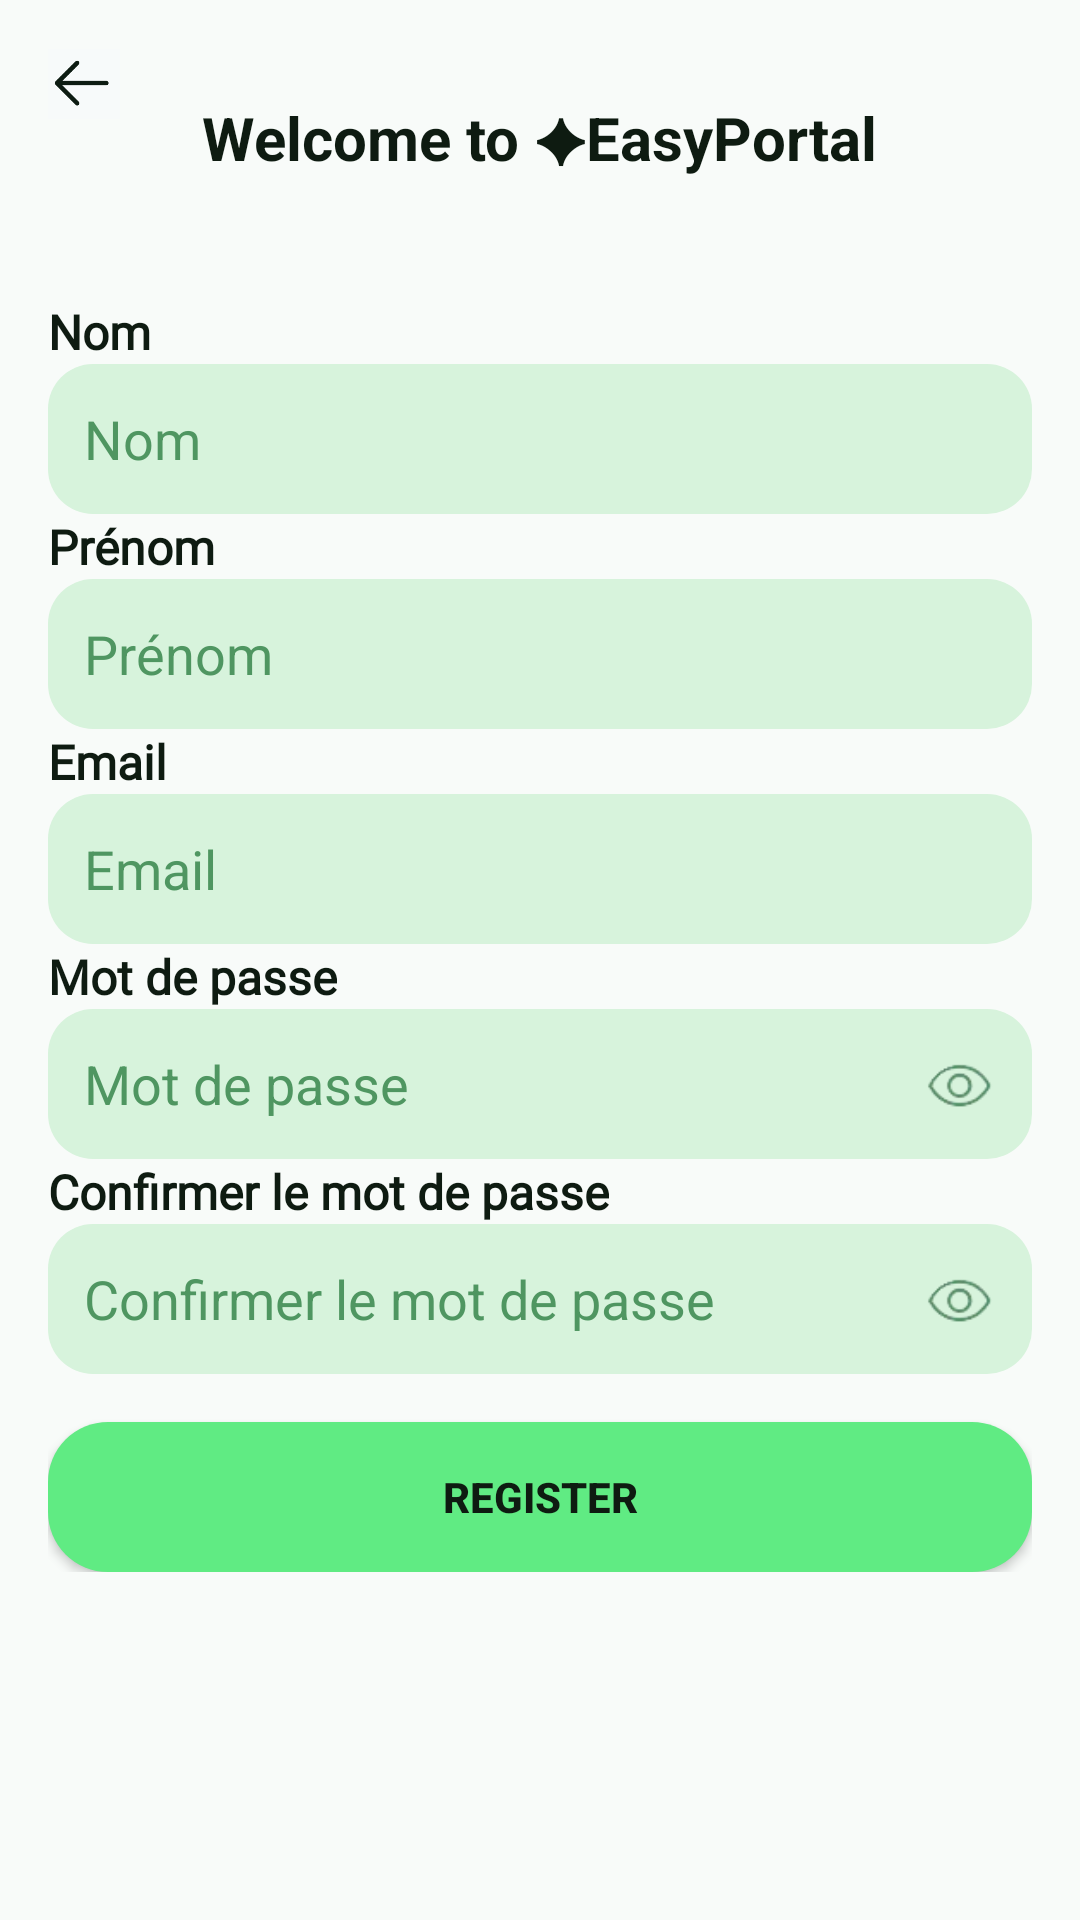

Named icons in this screenshot (1080x1920) and their centers, (x=x, y=y):
fleche: (x=82, y=83)
oeil: (x=959, y=1086), (x=959, y=1301)
